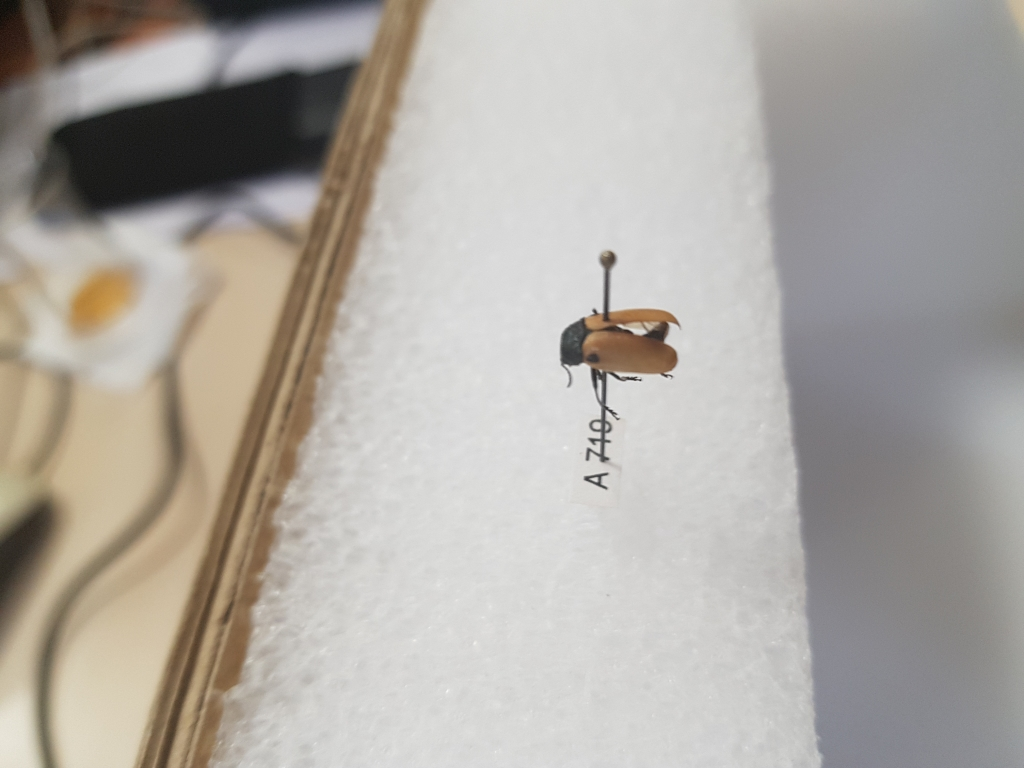Labidostomis_propinqua: (555, 304, 684, 390)
